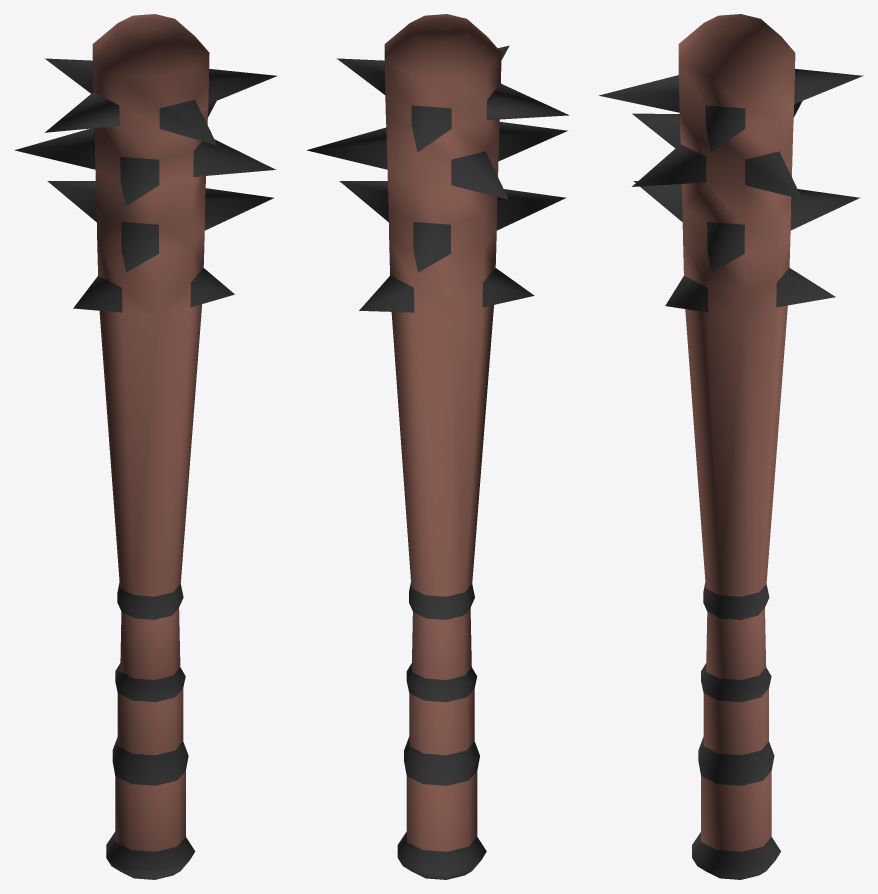
The model's file is Club.gltf.
3 views of the same model, side by side, from view 1: azimuth 30°, elevation 25°; view 2: azimuth 150°, elevation 25°; view 3: azimuth 270°, elevation 25° (orthographic).
Parts seen in each view (by area): view 1: Node1; view 2: Node1; view 3: Node1.
Boxes of the visible parts, x1,y1,x2,y2 form: Node1: (14,14,277,879); Node1: (307,14,568,879); Node1: (599,14,863,879).
Bounding box in the file's own units: 0.8207 × 2.83 × 0.8082.
